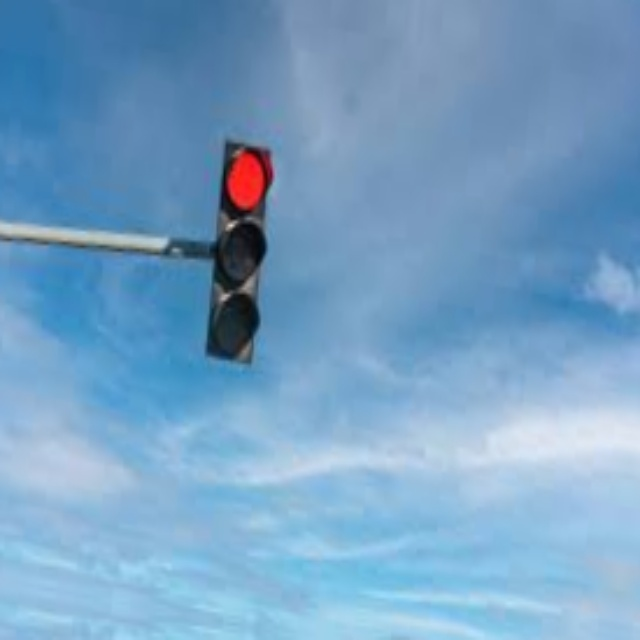red_light: (222, 144, 270, 213)
